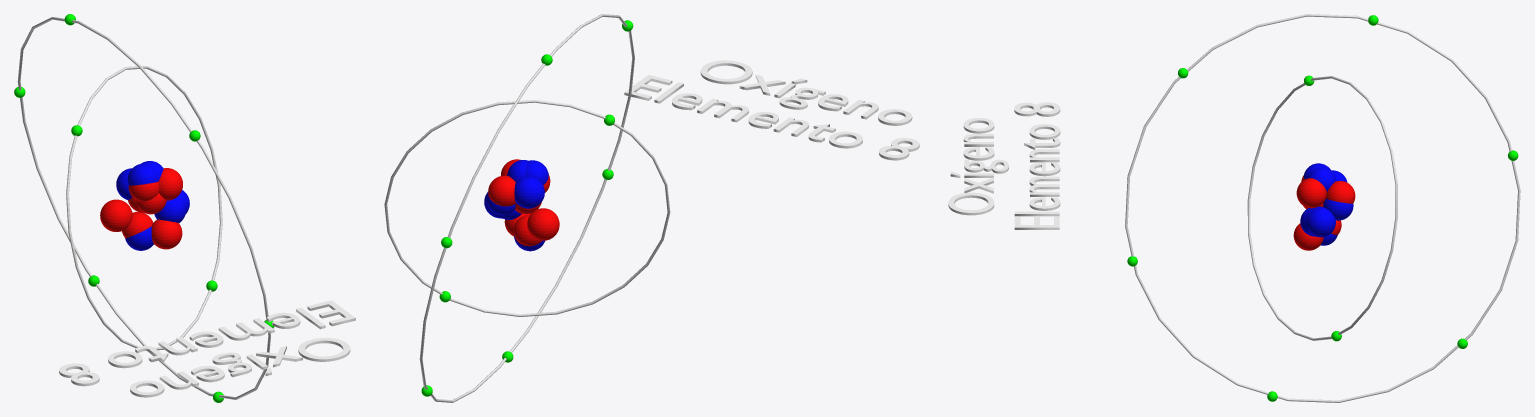
Rendered from 8-oxigeno.fbx.
3 renders of one model, left to right at view 1: azimuth 30°, elevation 25°; view 2: azimuth 150°, elevation 25°; view 3: azimuth 270°, elevation 25°, orthographic. The views are drawn at different scales.
Visible parts, largest first — view 1: Info_Oxigeno, Orbita_Nivel_2, Orbita_Nivel_1, Proton_8, Proton_1, Proton_2, Neutron_3, Neutron_8, Proton_3, Proton_4, Neutron_7, Proton_7 (+1 smaller); view 2: Info_Oxigeno, Orbita_Nivel_2, Orbita_Nivel_1, Proton_8, Neutron_4, Proton_5, Proton_3; view 3: Info_Oxigeno, Orbita_Nivel_2, Orbita_Nivel_1, Proton_2, Neutron_2, Proton_5.
Part boxes in pixels (bbox=[...]): Info_Oxigeno: bbox=[59, 300, 355, 397]; Orbita_Nivel_2: bbox=[17, 17, 270, 399]; Orbita_Nivel_1: bbox=[66, 66, 222, 350]; Proton_8: bbox=[100, 199, 132, 231]; Proton_1: bbox=[151, 219, 182, 249]; Proton_2: bbox=[158, 168, 182, 200]; Neutron_3: bbox=[127, 163, 158, 185]; Neutron_8: bbox=[154, 198, 185, 222]; Proton_3: bbox=[122, 212, 153, 238]; Proton_4: bbox=[128, 181, 159, 201]; Neutron_7: bbox=[125, 226, 153, 250]; Proton_7: bbox=[136, 193, 166, 214]; Info_Oxigeno: bbox=[624, 60, 919, 160]; Orbita_Nivel_2: bbox=[419, 14, 634, 402]; Orbita_Nivel_1: bbox=[384, 100, 670, 316]; Proton_8: bbox=[527, 208, 559, 240]; Neutron_4: bbox=[514, 177, 544, 208]; Proton_5: bbox=[488, 175, 515, 206]; Proton_3: bbox=[513, 214, 541, 246]; Info_Oxigeno: bbox=[948, 102, 1060, 229]; Orbita_Nivel_2: bbox=[1125, 14, 1520, 402]; Orbita_Nivel_1: bbox=[1247, 76, 1397, 340]; Proton_2: bbox=[1296, 178, 1326, 208]; Neutron_2: bbox=[1307, 207, 1335, 237]; Proton_5: bbox=[1326, 181, 1355, 203].
Size of the model in its own units: 553 by 584 by 870.
